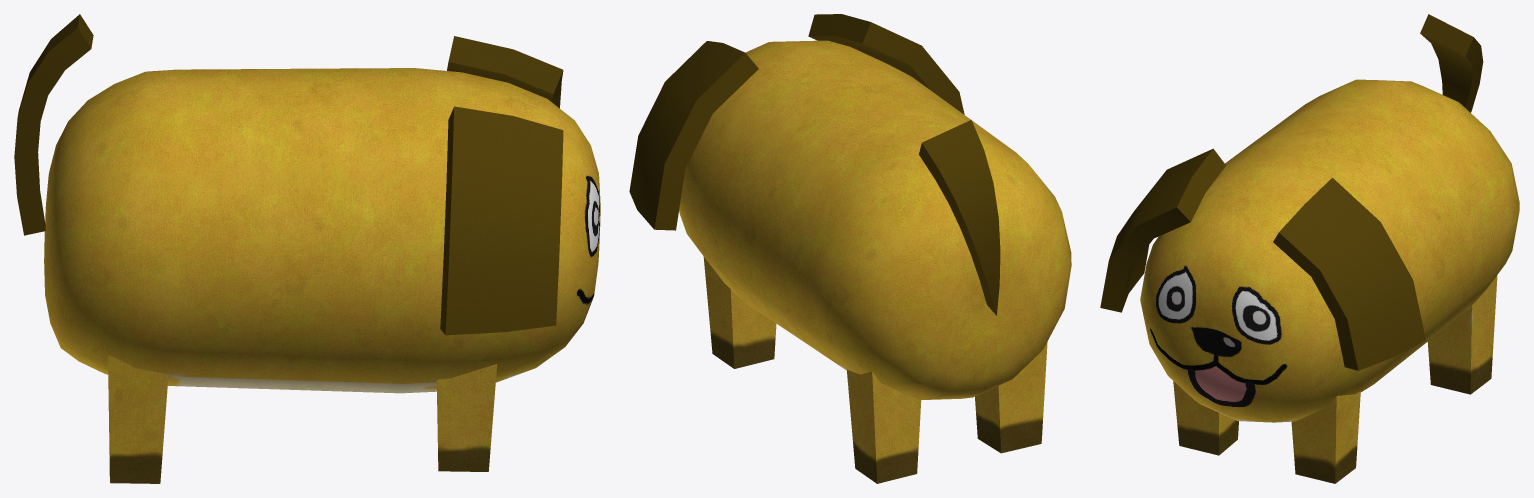
File: spin1.FBX
The picture shows the model from 3 angles, left to right: view 1: azimuth 30°, elevation 25°; view 2: azimuth 150°, elevation 25°; view 3: azimuth 270°, elevation 25°; orthographic projection. The views are drawn at different scales.
Parts seen in each view (by area): view 1: spin1; view 2: spin1; view 3: spin1.
Boxes of the visible parts, bbox=[...] form: spin1: bbox=[14, 14, 600, 483]; spin1: bbox=[629, 14, 1071, 483]; spin1: bbox=[1100, 14, 1519, 483].
Size of the model in its own units: 42.79 by 33.71 by 38.01.
1 material, 1 textured.
